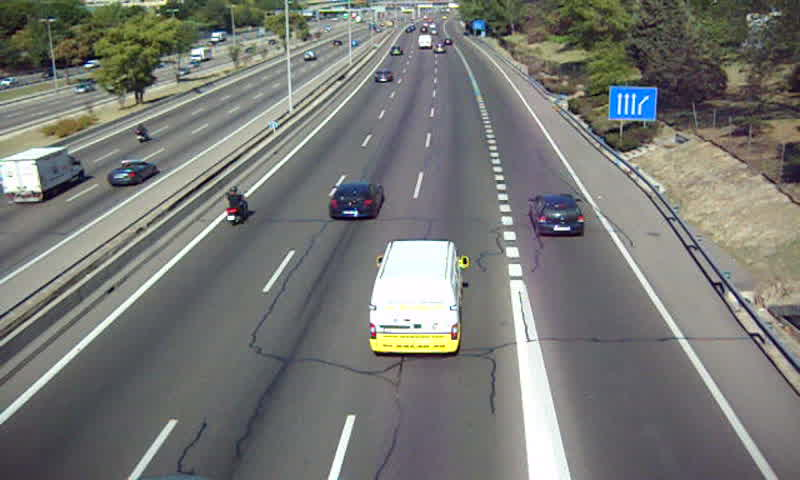car: (526, 193, 584, 236), (329, 180, 384, 223), (374, 68, 394, 85)
motorcycle: (224, 185, 249, 227)
van: (370, 240, 463, 355)
